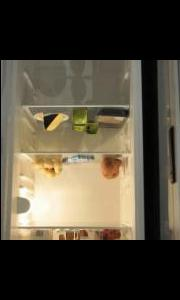Huevos: (65, 230, 74, 240), (79, 230, 88, 240), (74, 229, 82, 239), (58, 230, 66, 240)
Manzana: (72, 110, 86, 125), (84, 122, 96, 133), (71, 124, 85, 130)
Pan de sandwich: (96, 60, 120, 73)
Queso: (42, 110, 62, 130)
